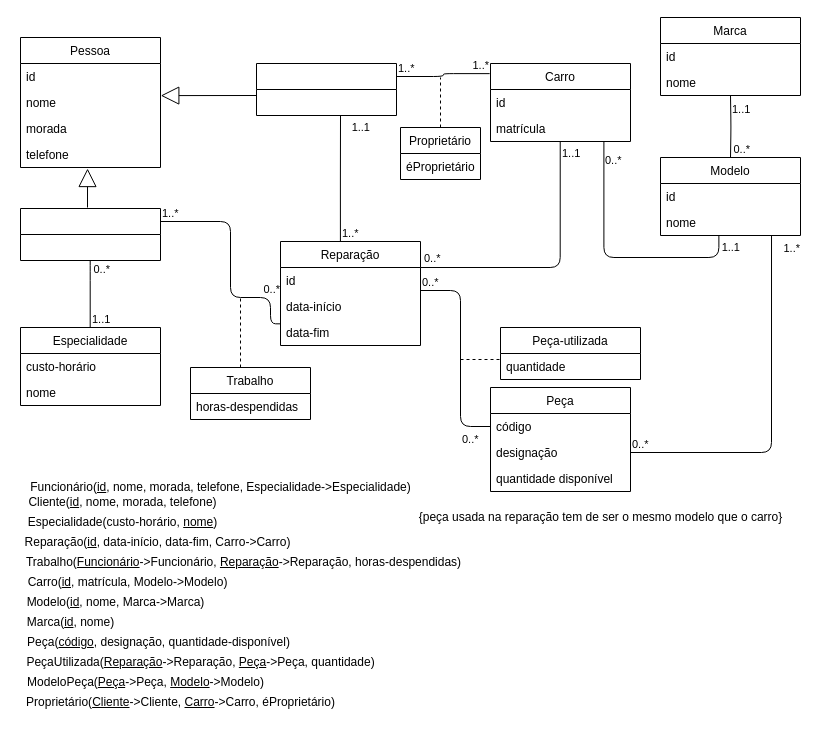
Some shapes in this 818 by 730 pixel diagram are drawn without their labels. The shapes that lost their labels are listed below. From the top down, each one's centre as x and y in pixels, then its label:
pixel 326 89: Cliente
pixel 90 234: Funcionário
